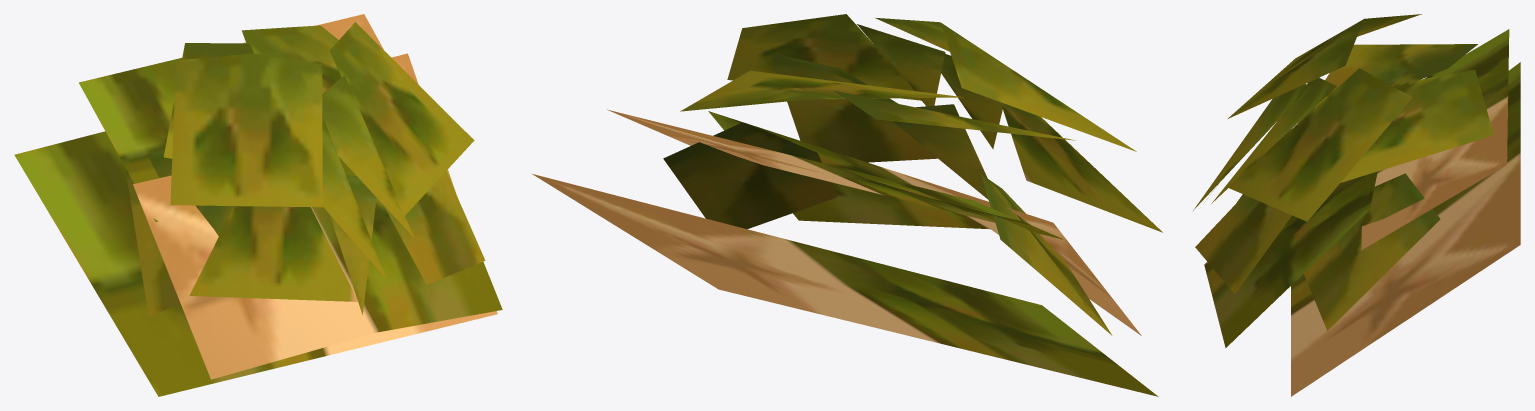
Rendered from fg_bushE_2.dae.
The picture shows the model from 3 angles, left to right: view 1: azimuth 30°, elevation 25°; view 2: azimuth 150°, elevation 25°; view 3: azimuth 270°, elevation 25°; orthographic projection. The views are drawn at different scales.
Parts seen in each view (by area): view 1: fg_bushE_2; view 2: fg_bushE_2; view 3: fg_bushE_2.
Part boxes in pixels (x1,y1,x2,y2): fg_bushE_2: (14, 14, 502, 396); fg_bushE_2: (532, 14, 1162, 396); fg_bushE_2: (1193, 14, 1520, 396).
Bounding box in the file's own units: 50.84 × 35.08 × 37.48.
Materials: 1 (1 with a texture image).
